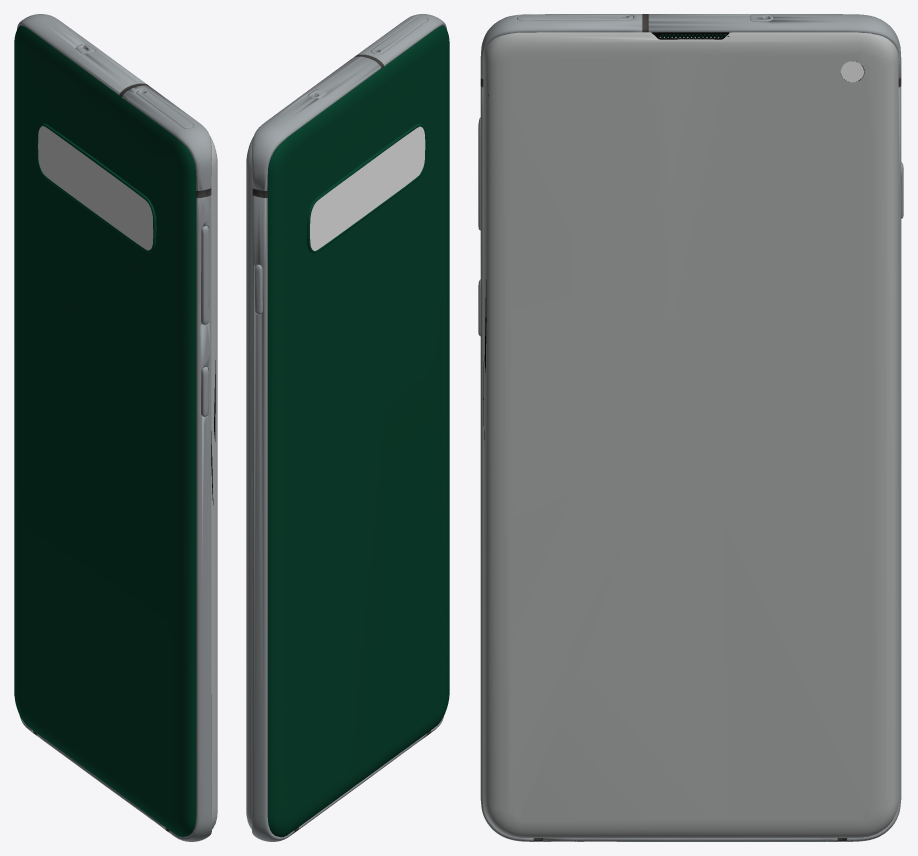
Rendered from galaxy-s10-opt2.glb.
The picture shows the model from 3 angles, left to right: view 1: azimuth 30°, elevation 25°; view 2: azimuth 150°, elevation 25°; view 3: azimuth 270°, elevation 25°; orthographic projection. The views are drawn at different scales.
Visible parts, largest first — view 1: Phone_primitive1, Phone_primitive0; view 2: Phone_primitive1, Phone_primitive0; view 3: Phone_primitive0.
Boxes of the visible parts, x1,y1,x2,y2 form: Phone_primitive1: [14, 25, 202, 837]; Phone_primitive0: [17, 14, 217, 841]; Phone_primitive1: [263, 19, 449, 837]; Phone_primitive0: [246, 14, 446, 841]; Phone_primitive0: [478, 14, 903, 841].
Size of the model in its own units: 0.00849 by 0.1506 by 0.0707.
3 materials, 3 textured.
